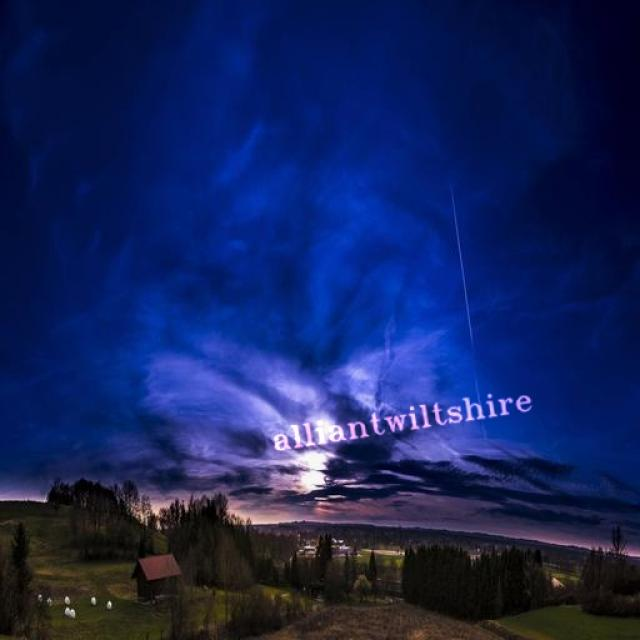watermark: (265, 384, 534, 456)
